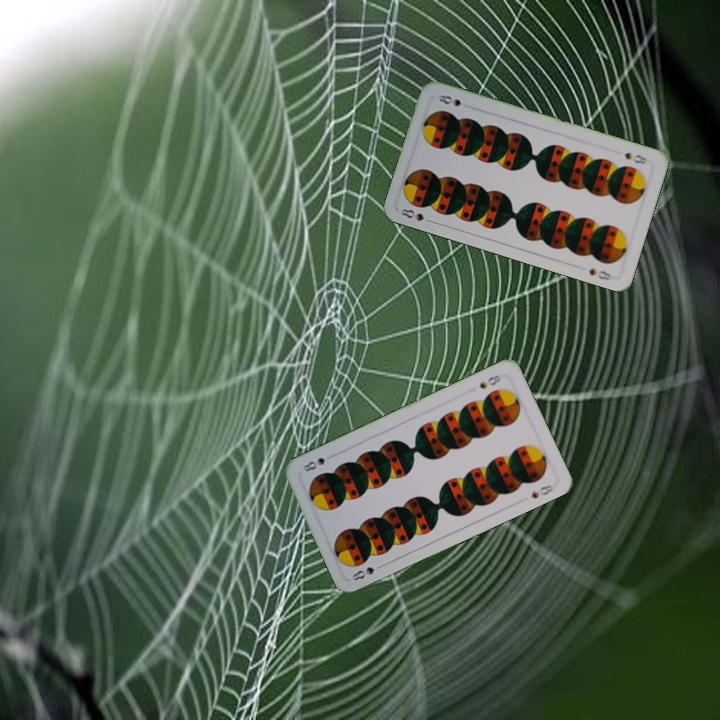S8: (397, 204, 436, 226), (475, 370, 503, 392), (348, 562, 377, 583), (621, 148, 650, 167)
